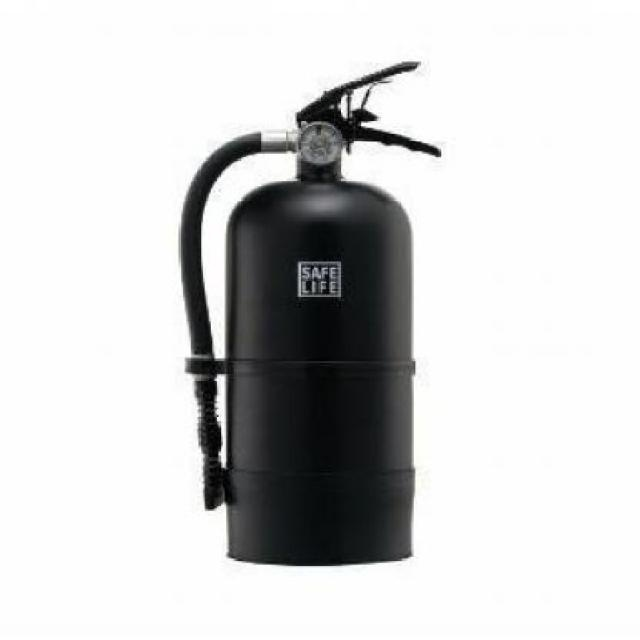fire extinguisher: (178, 61, 442, 567)
